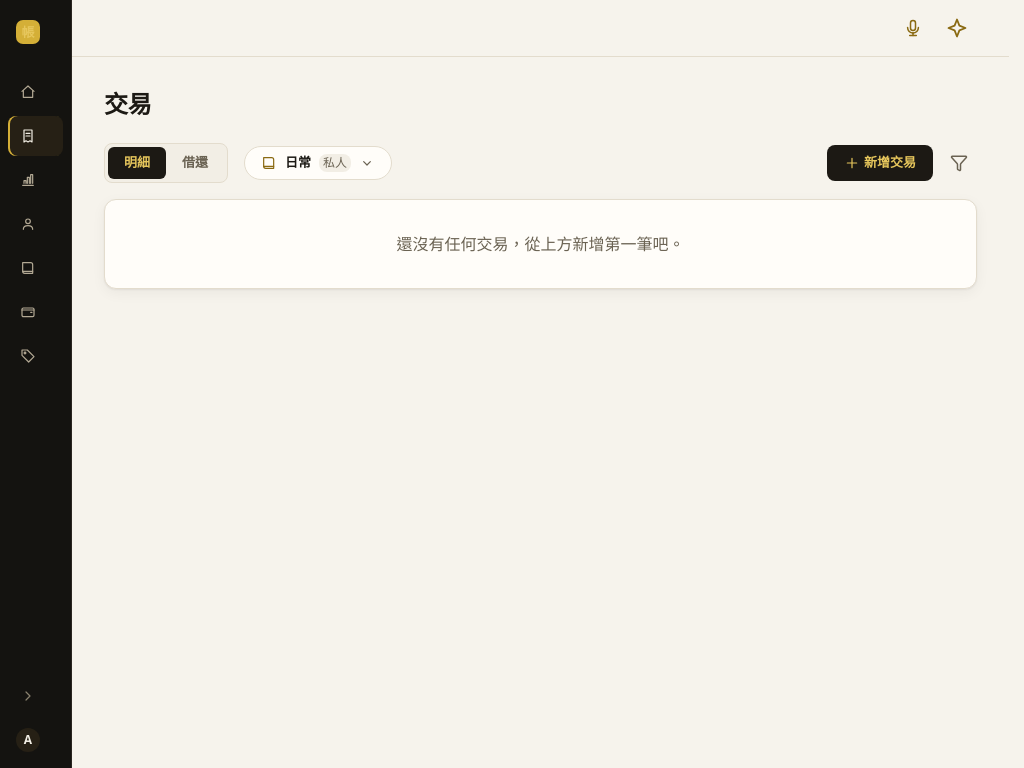
Test case: AI drafts on the transactions page › W210 keeps a failed single confirmation and shows its row error
This screenshot has width=1024, height=768.
Click the button named "AI 記帳" at x=957, y=28, box x1=937 y1=8 x2=977 y2=48
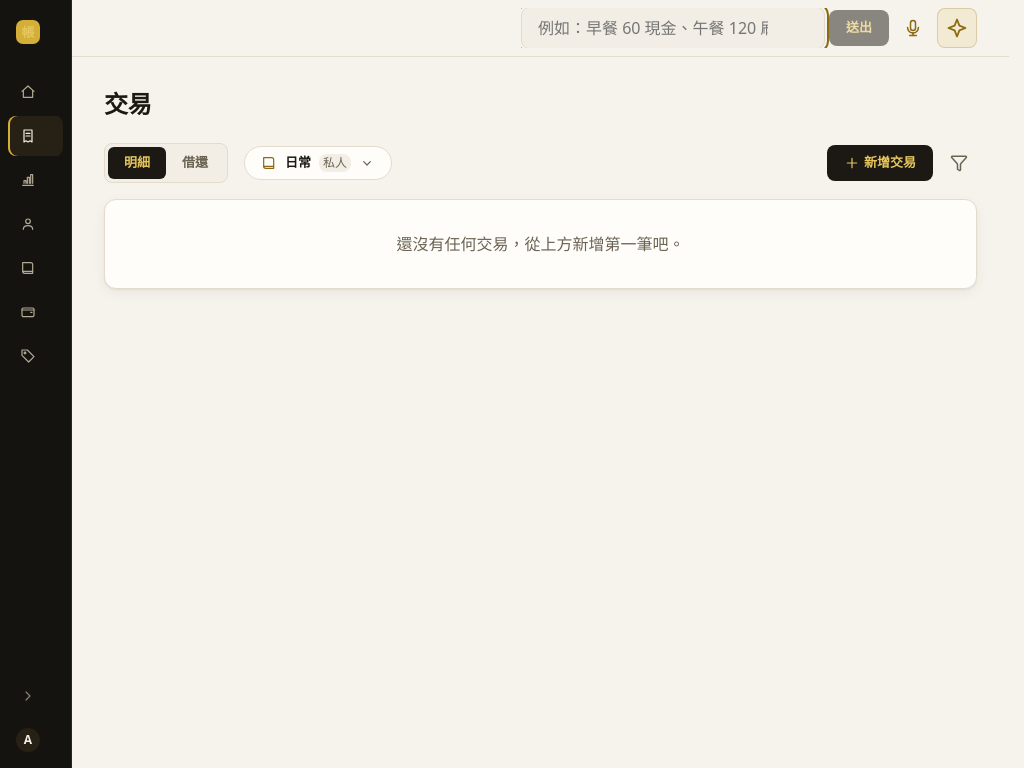
Type "早餐 60 現金" into the field named "用一句話記帳" at x=673, y=28, box x1=521 y1=7 x2=825 y2=49
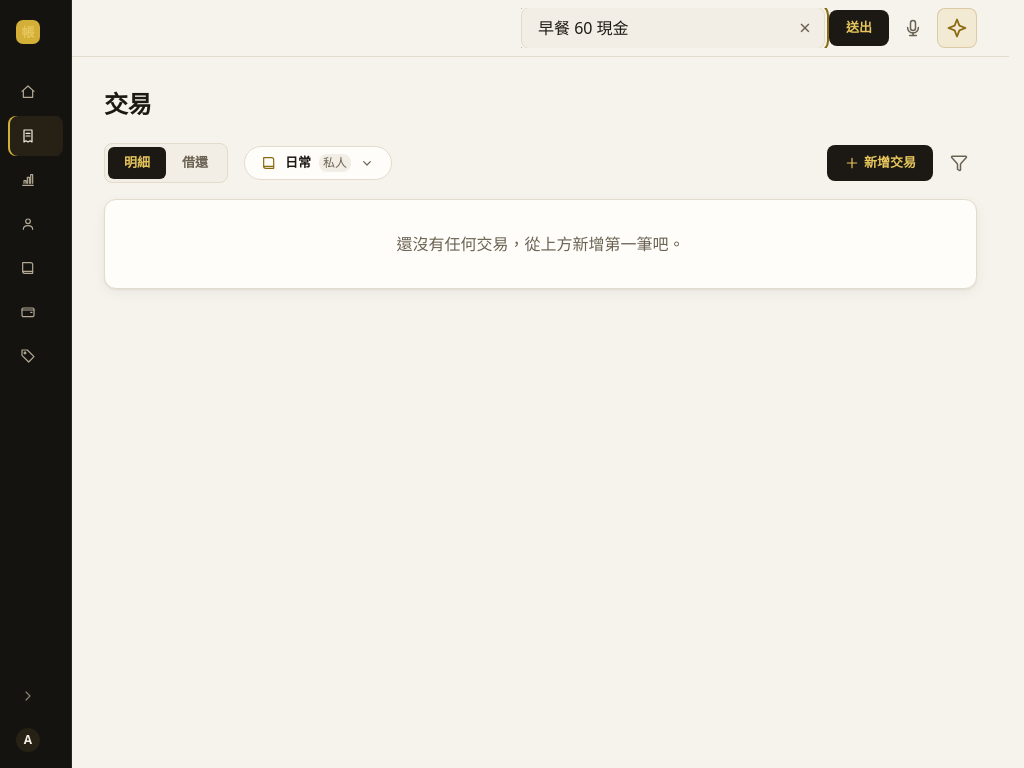
Click the button "送出" at x=859, y=28, box x1=829 y1=10 x2=889 y2=46
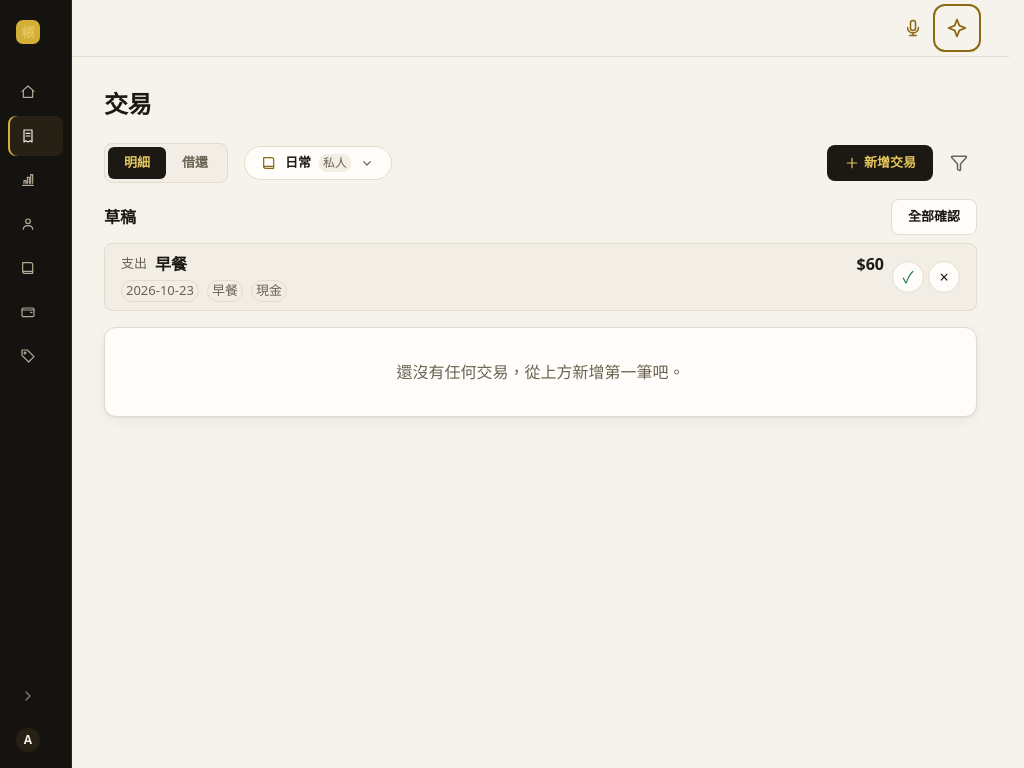
Now the number of buttons named "編輯草稿" is 1, box x1=121 y1=252 x2=884 y2=302
Click the button named "確認草稿：早餐" at x=908, y=277, box x1=892 y1=261 x2=924 y2=293
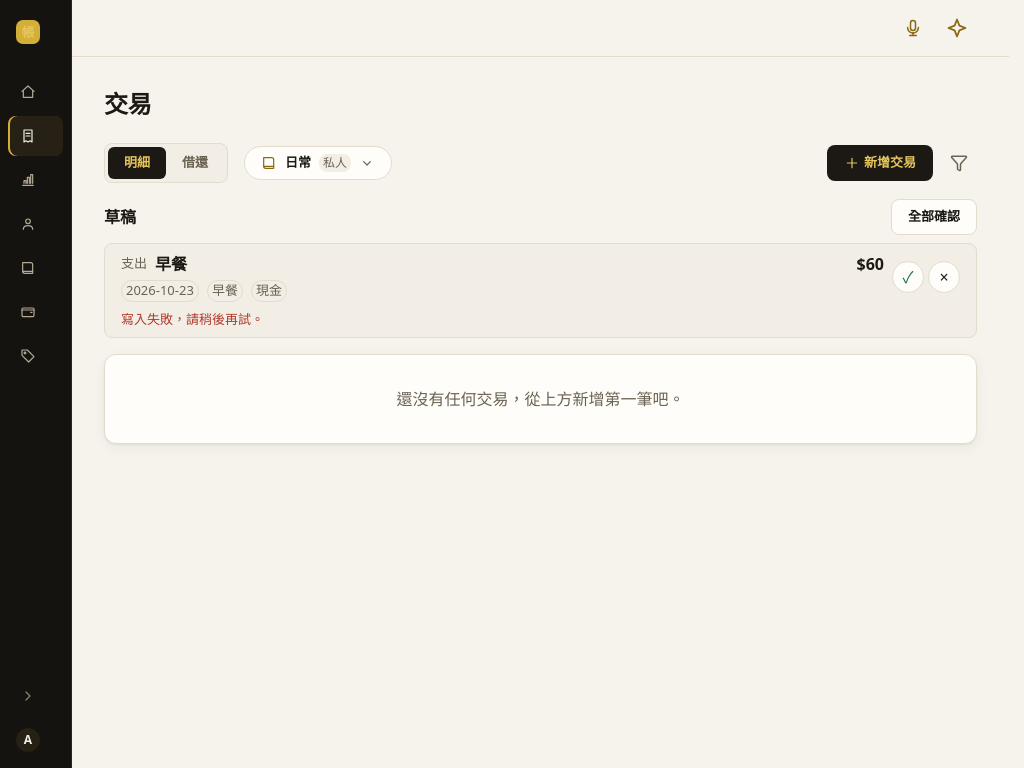
Now the button with aria-label "編輯草稿：早餐" is shown, box x1=121 y1=252 x2=884 y2=302
Now the message reads "寫入失敗，請稍後再試。", box x1=121 y1=310 x2=264 y2=328
